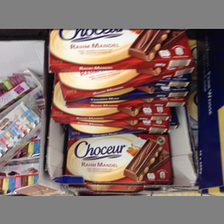chocolate: (48, 29, 197, 73), (65, 133, 173, 185)
